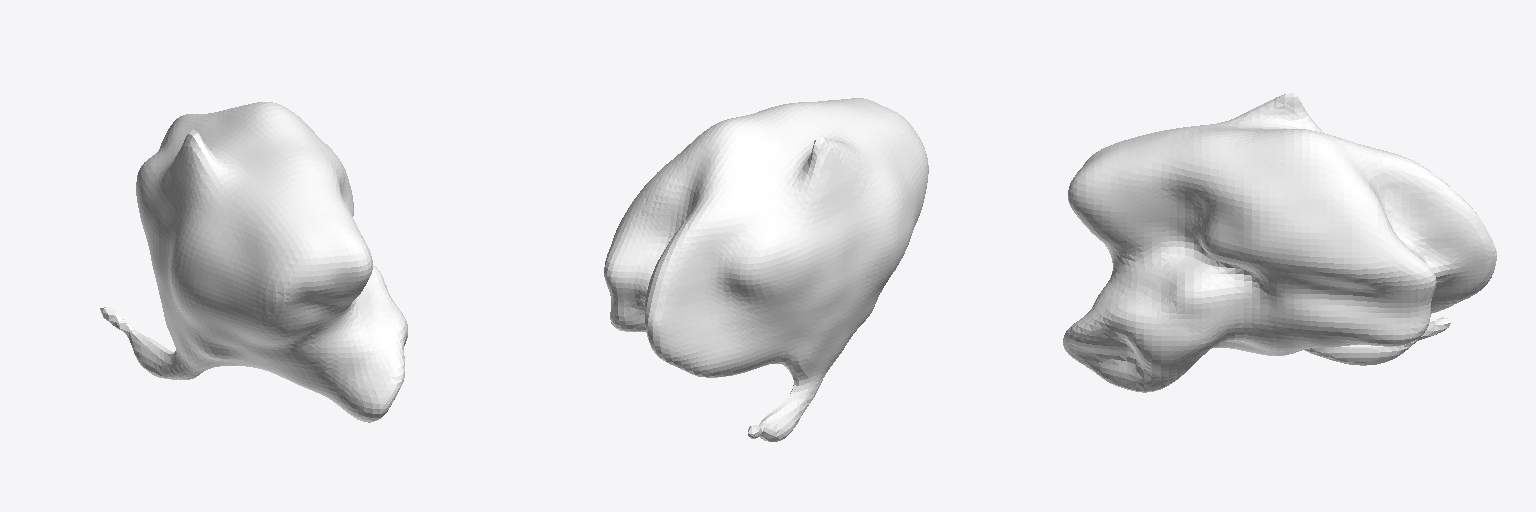
Rendered from segmentation_1.obj.
3 renders of one model, left to right at view 1: azimuth 30°, elevation 25°; view 2: azimuth 150°, elevation 25°; view 3: azimuth 270°, elevation 25°, orthographic.
Parts seen in each view (by area): view 1: grp1; view 2: grp1; view 3: grp1.
Boxes of the visible parts, x1,y1,x2,y2 form: grp1: [100, 102, 407, 422]; grp1: [604, 98, 928, 441]; grp1: [1063, 93, 1496, 392].
Bounding box in the file's own units: 43.27 × 54.05 × 78.27.